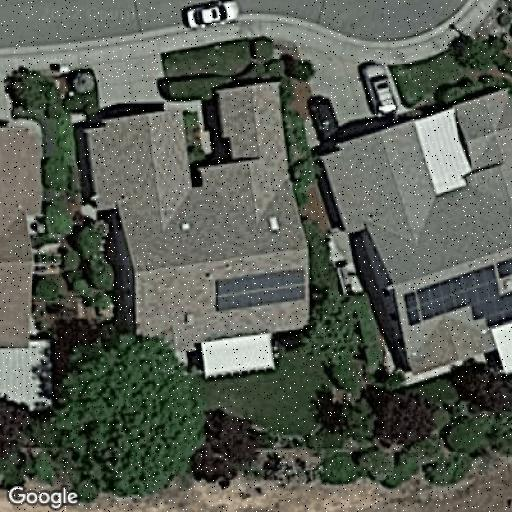solar-panel: (403, 256, 512, 332), (214, 266, 306, 312)
